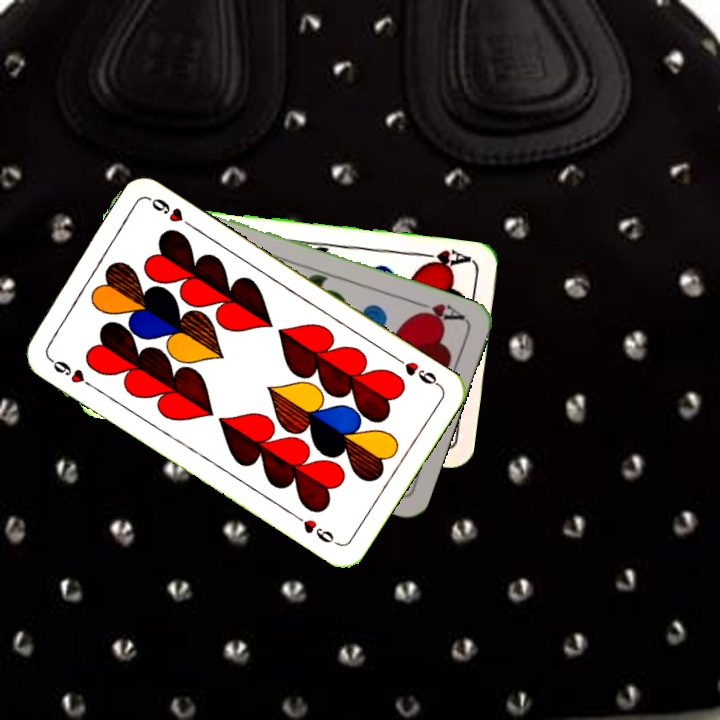H9: (44, 353, 97, 391), (390, 352, 443, 389)
HA: (409, 297, 468, 326), (414, 245, 473, 273)
